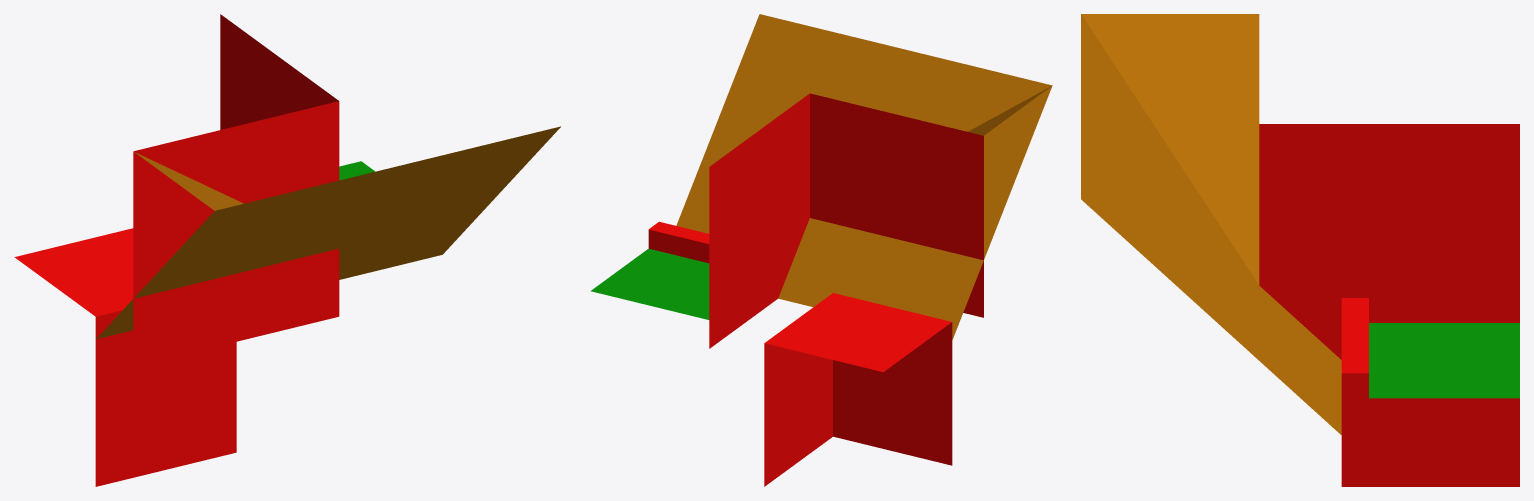
3 views of the same model, side by side, from view 1: azimuth 30°, elevation 25°; view 2: azimuth 150°, elevation 25°; view 3: azimuth 270°, elevation 25° (orthographic). The views are drawn at different scales.
Visible parts, largest first — view 1: None_W_S_E_E_E_S_A_E_None; view 2: None_W_S_E_E_E_S_A_E_None; view 3: None_W_S_E_E_E_S_A_E_None.
Part boxes in pixels (x1=…): None_W_S_E_E_E_S_A_E_None: x1=14, y1=14, x2=560, y2=486; None_W_S_E_E_E_S_A_E_None: x1=590, y1=14, x2=1052, y2=486; None_W_S_E_E_E_S_A_E_None: x1=1081, y1=14, x2=1519, y2=486.
Bounding box in the file's own units: 100 × 100 × 100.
